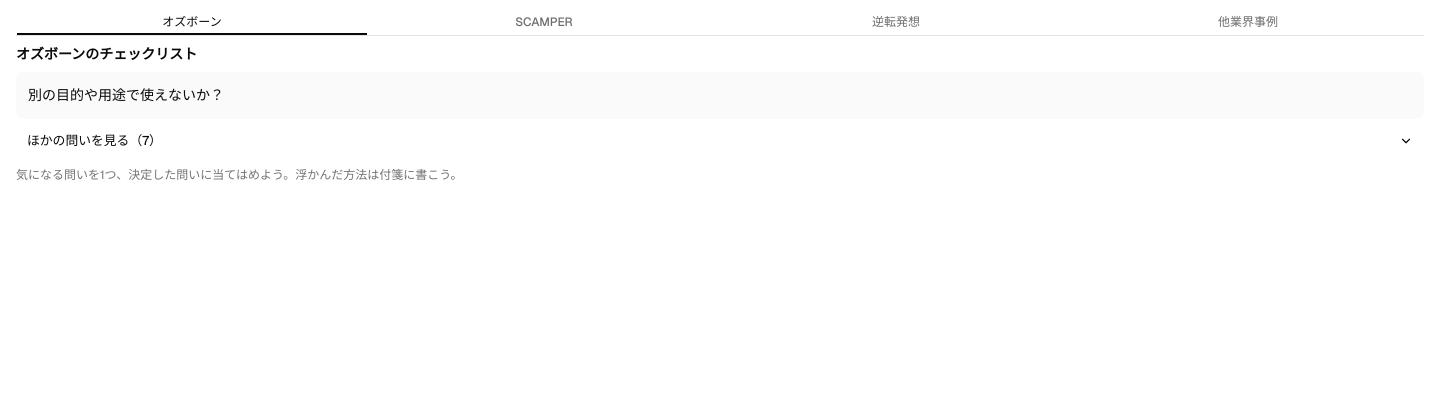
it: IdeaSupportSidebarContent › カテゴリを切り替えて戻っても、選んだ補足の開閉状態を保つ
This screenshot has width=1440, height=412.
Click the button "ほかの問いを見る（7）" at (94, 140), box x1=16 y1=127 x2=1424 y2=155
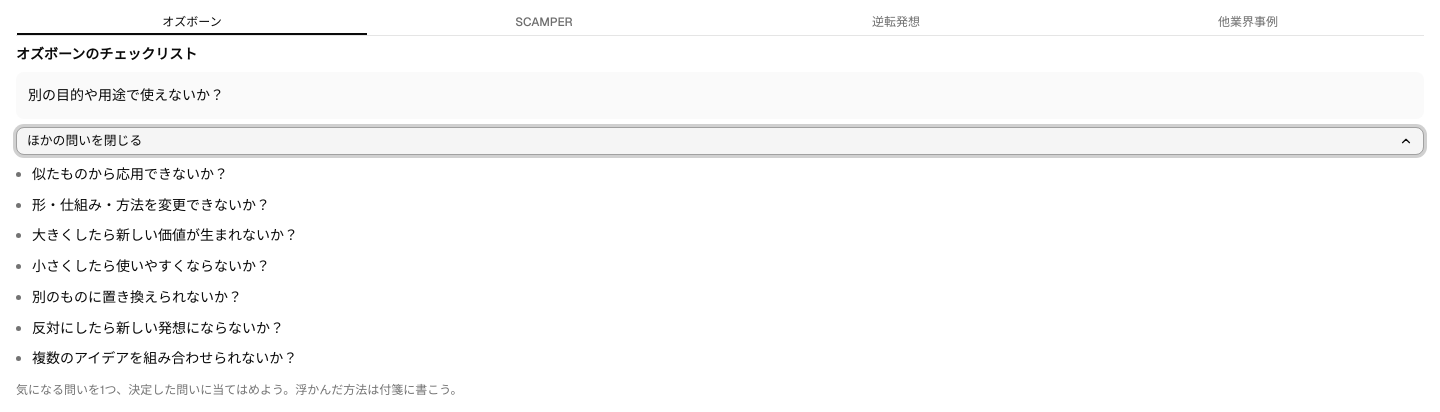
Click the tab "SCAMPER" at (544, 22), box x1=368 y1=8 x2=720 y2=36
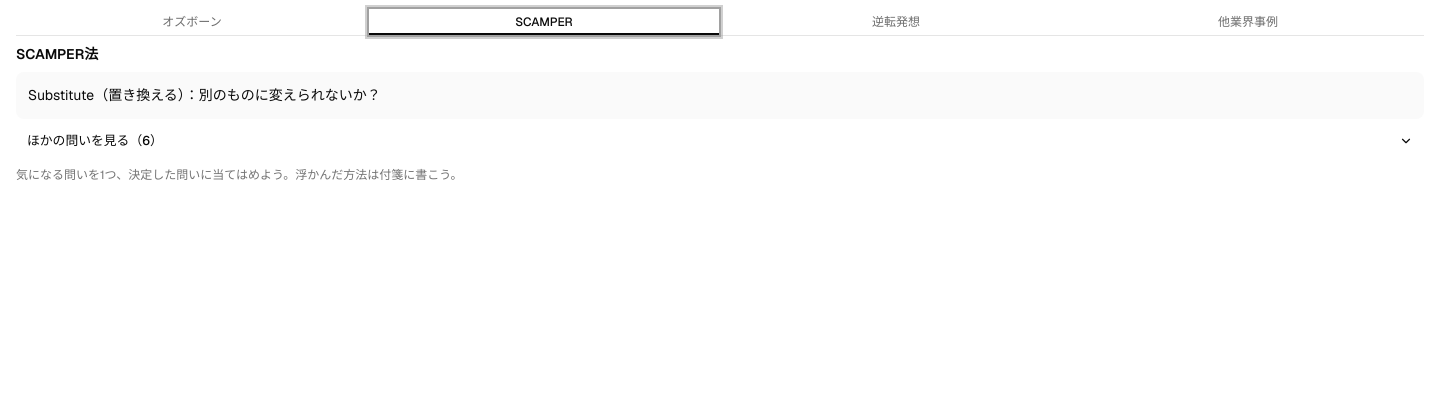
Expected: the button "ほかの問いを見る（6）" is collapsed, x1=16 y1=127 x2=1424 y2=155
Click the tab "オズボーン" at (192, 22), box x1=16 y1=8 x2=368 y2=36
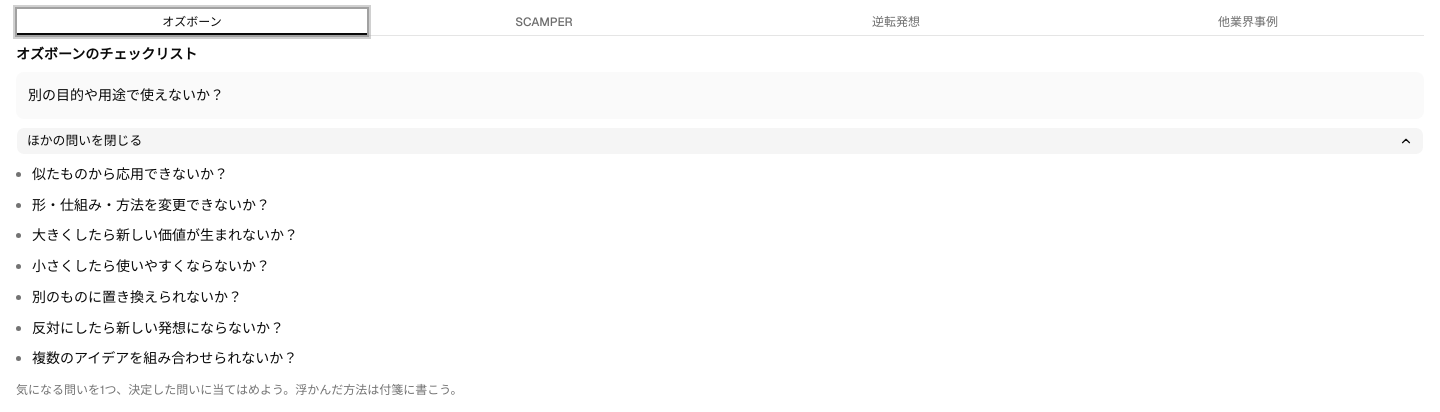
Expected: the button "ほかの問いを閉じる" is expanded, x1=16 y1=127 x2=1424 y2=155
Expected: the list item "複数のアイデアを組み合わせられないか？" is shown, x1=32 y1=349 x2=297 y2=367
